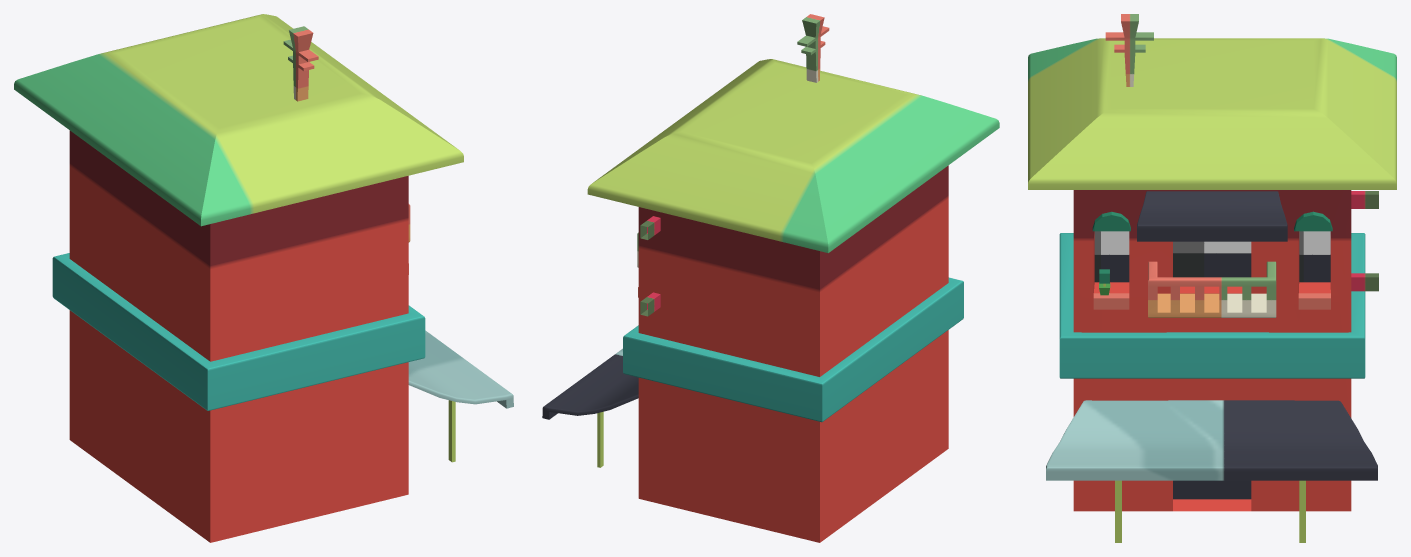
Rendered from BuildingShort_04A.fbx.
The picture shows the model from 3 angles, left to right: view 1: azimuth 30°, elevation 25°; view 2: azimuth 150°, elevation 25°; view 3: azimuth 270°, elevation 25°; orthographic projection. The views are drawn at different scales.
Parts seen in each view (by area): view 1: polySurface1022; view 2: polySurface1022; view 3: polySurface1022.
Part boxes in pixels (x1,y1,x2,y2): polySurface1022: (14,14,513,542); polySurface1022: (542,14,999,542); polySurface1022: (1028,14,1396,542).
Bounding box in the file's own units: 4.91 × 6.72 × 4.93.
